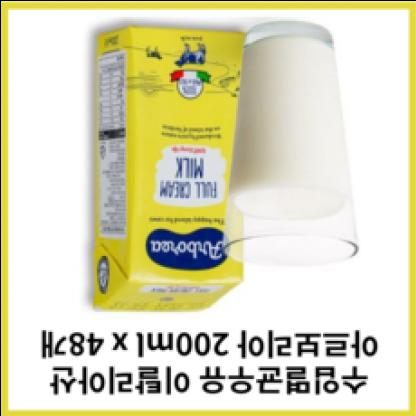tetra: (80, 20, 247, 320)
